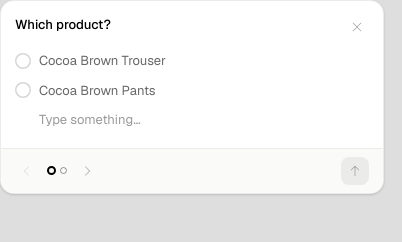
Test: AiClarifyCard › renders the first question and auto-advances on radio select
Expected: the text "Which product?" is shown, [15,15,111,34]
Click the button "Cocoa Brown Trouser".
click(102, 60)  # box [9,47,375,74]
Wait 480 ms
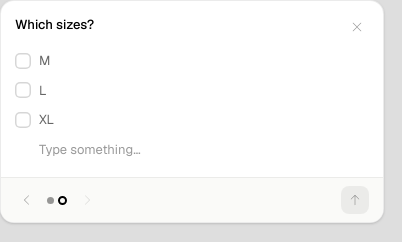
Now the text "Which sizes?" is shown, box [15,15,94,34]
